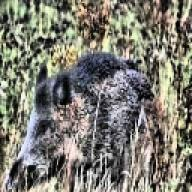boar: (3, 49, 165, 192)
